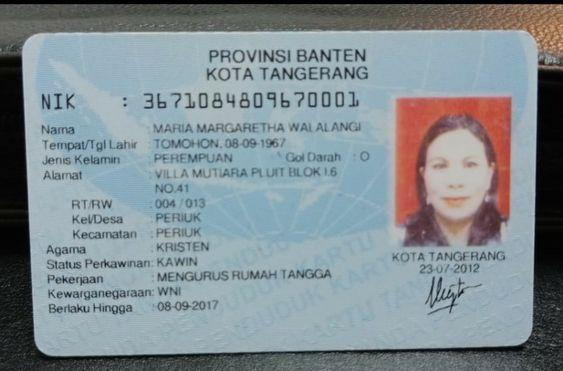ID-card: (25, 32, 528, 354)
